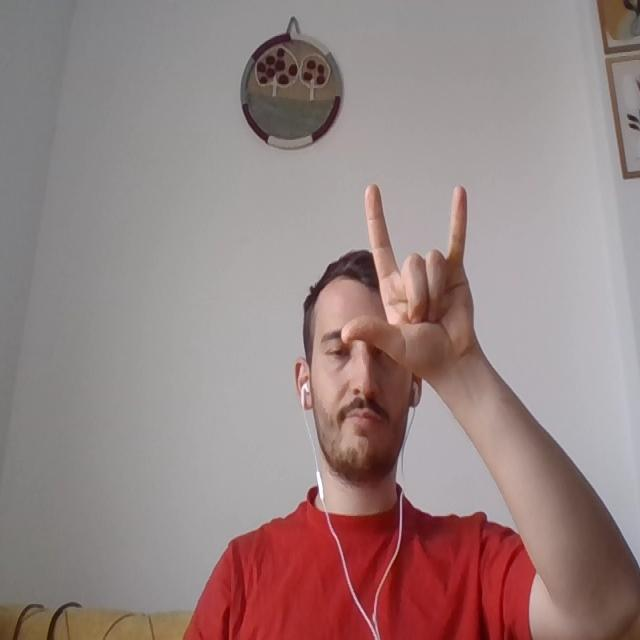i love you: (337, 188, 477, 366)
